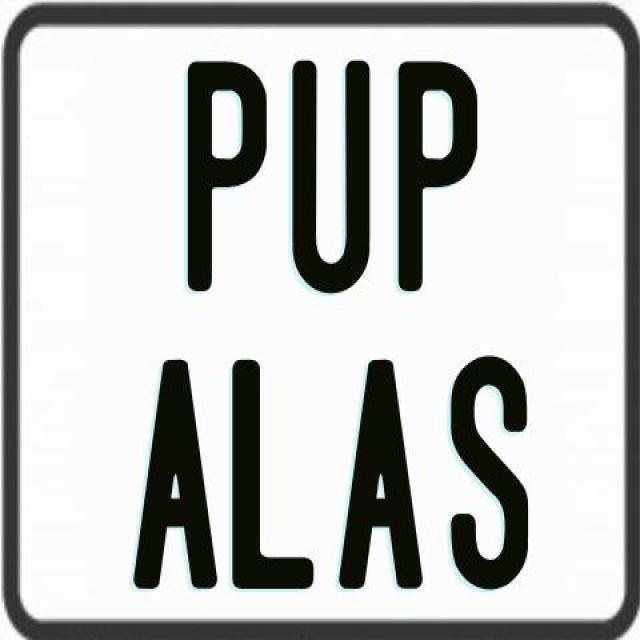A: (130, 360, 220, 592), (338, 355, 422, 584)
L: (228, 358, 312, 590)
P: (396, 56, 480, 294), (185, 61, 268, 300)
S: (448, 350, 530, 586)
U: (292, 56, 369, 298)
